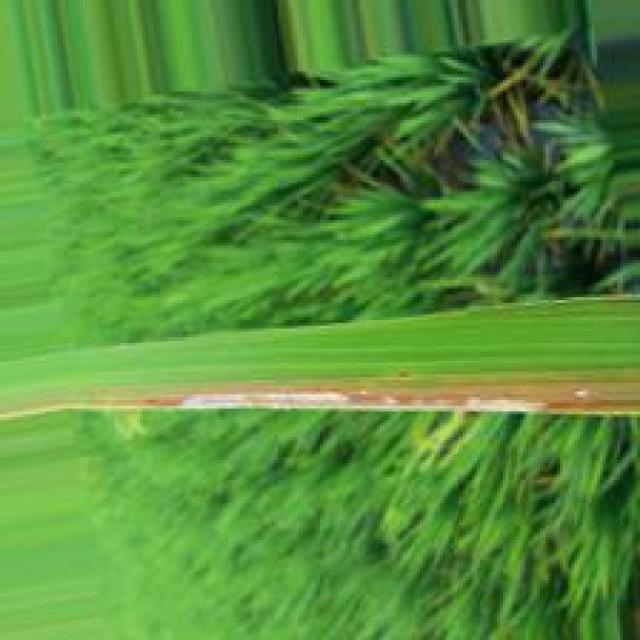Bacterial_Leaf_Blight: (109, 370, 640, 415)
